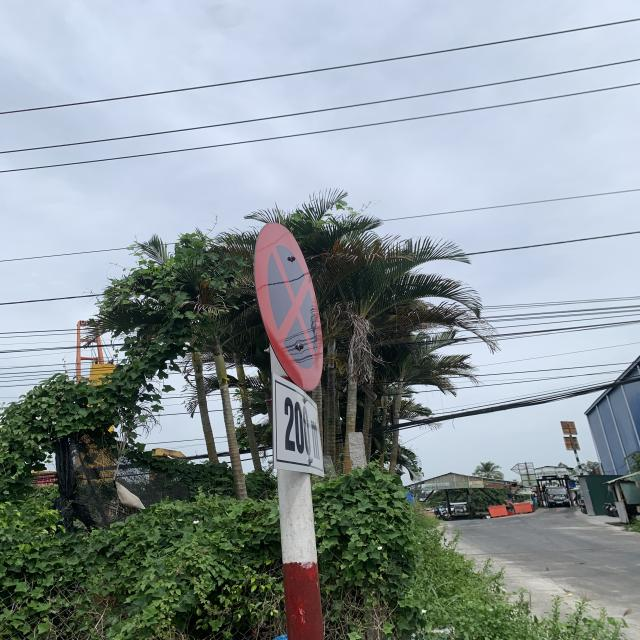Cam_Dung_Va_Dau_Xe: (255, 221, 327, 392)
